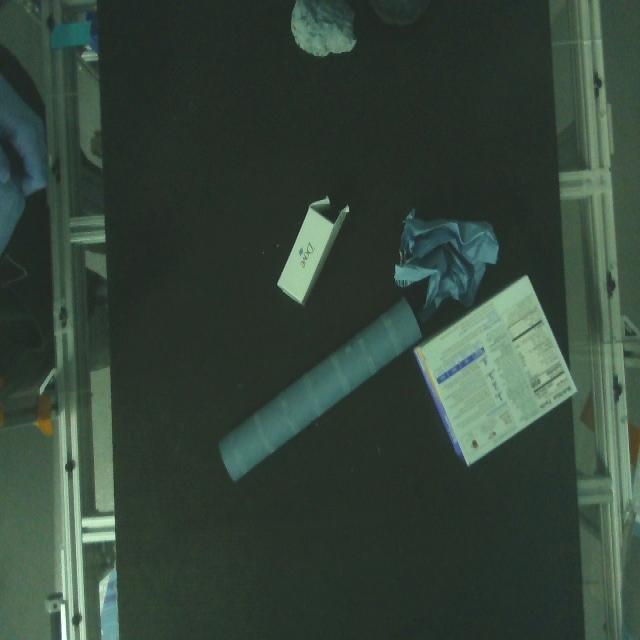non-paper: (283, 0, 362, 57), (353, 0, 435, 33)
paper: (217, 294, 428, 492), (410, 266, 591, 470), (388, 202, 508, 321), (272, 192, 357, 311)
